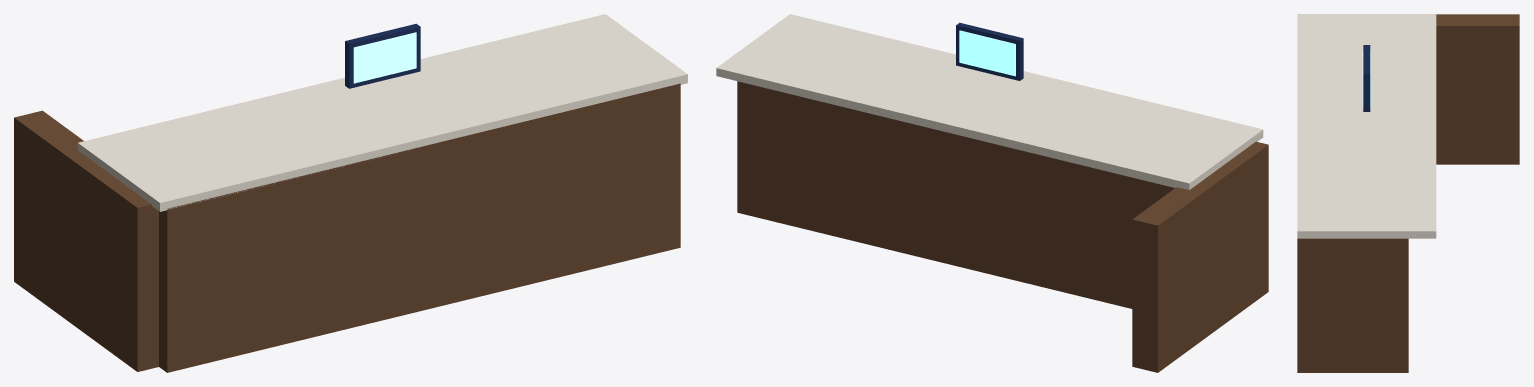
The model's file is reception_desk.glb.
The picture shows the model from 3 angles, left to right: view 1: azimuth 30°, elevation 25°; view 2: azimuth 150°, elevation 25°; view 3: azimuth 270°, elevation 25°; orthographic projection. The views are drawn at different scales.
Visible parts, largest first — view 1: front, top.001, wing, glow, screen.001; view 2: front, top.001, wing, glow, screen.001; view 3: top.001, front, wing, screen.001.
Boxes of the visible parts, x1,y1,x2,y2 form: front: [159, 83, 680, 372]; top.001: [77, 14, 687, 211]; wing: [14, 110, 158, 371]; glow: [353, 32, 416, 83]; screen.001: [345, 23, 420, 88]; front: [737, 81, 1174, 308]; top.001: [716, 14, 1263, 189]; wing: [1132, 141, 1268, 372]; glow: [959, 30, 1015, 76]; screen.001: [956, 22, 1023, 80]; top.001: [1297, 14, 1436, 238]; front: [1297, 238, 1408, 372]; wing: [1436, 14, 1519, 164]; screen.001: [1363, 45, 1370, 111].
Bounding box in the file's own units: 3.8 × 1.65 × 1.6.
